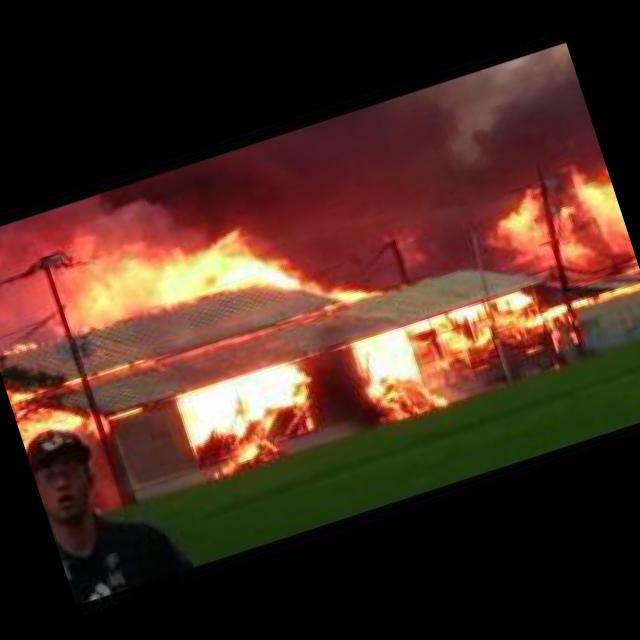fire: (32, 168, 302, 360), (350, 279, 570, 429), (173, 351, 331, 486), (4, 345, 145, 461), (328, 276, 381, 308), (4, 335, 44, 357)
